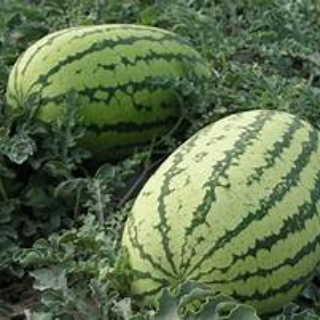dua_hau: (122, 109, 320, 310), (4, 22, 210, 154)
